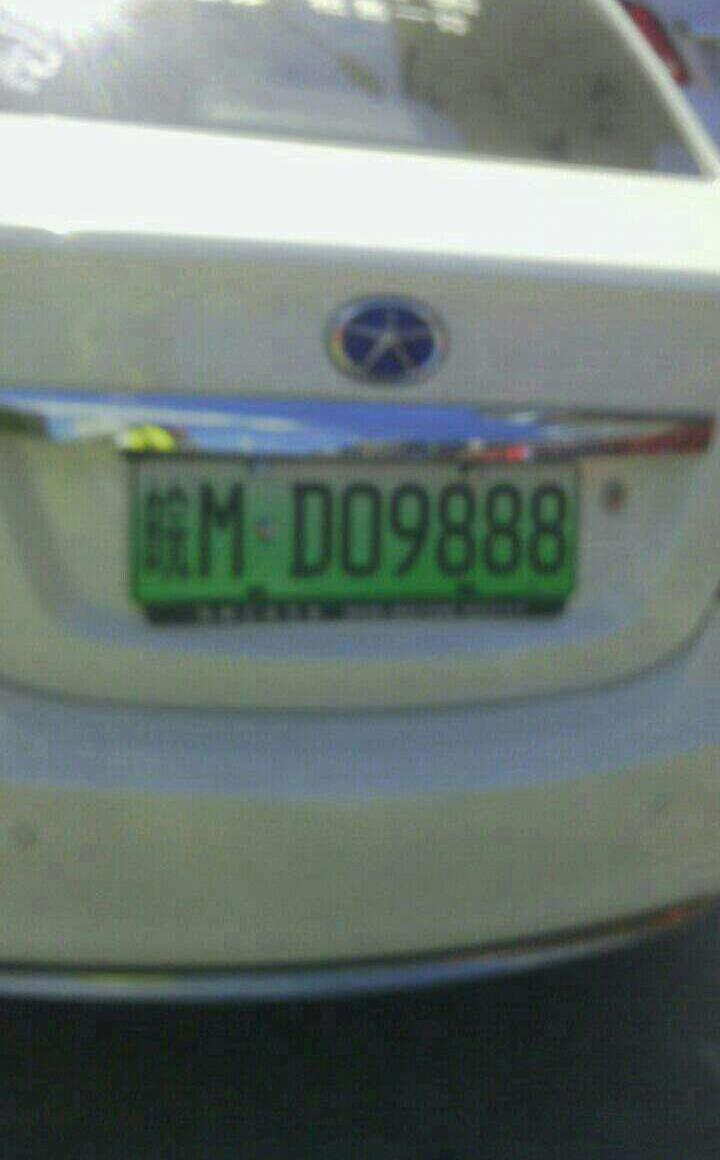car_id: (128, 459, 580, 597)
